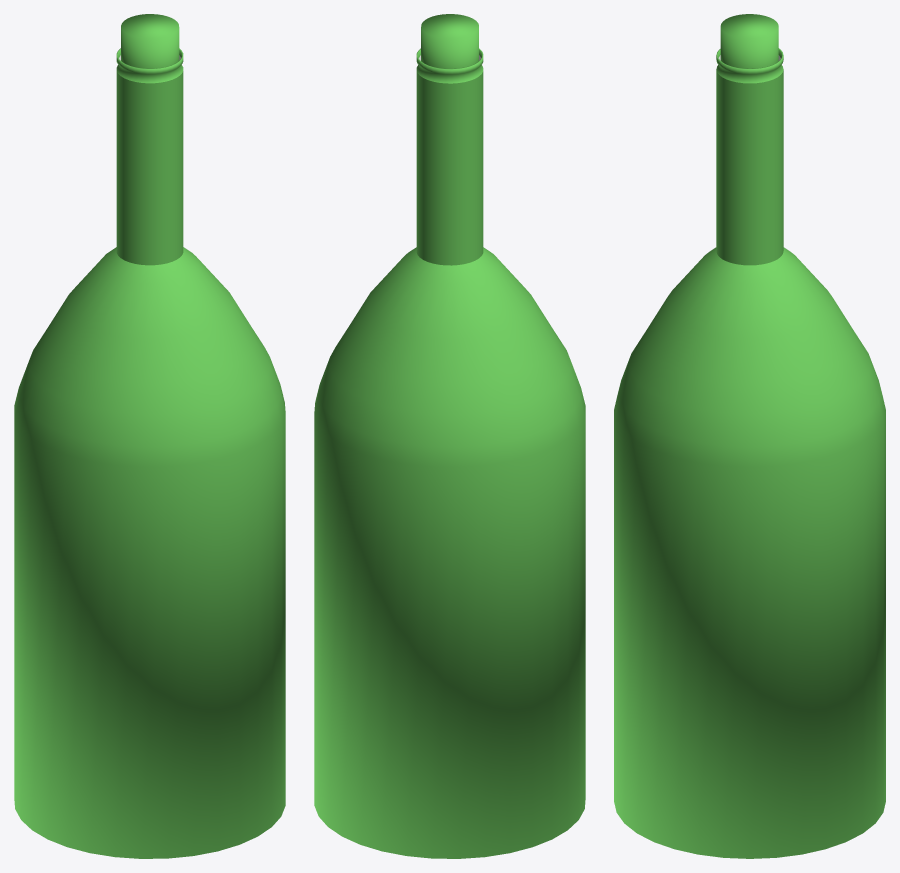
Rendered from Liquor.fbx.
3 renders of one model, left to right at view 1: azimuth 30°, elevation 25°; view 2: azimuth 150°, elevation 25°; view 3: azimuth 270°, elevation 25°, orthographic.
Parts seen in each view (by area): view 1: Bottle, Cork; view 2: Bottle, Cork; view 3: Bottle, Cork.
Boxes of the visible parts, x1,y1,x2,y2 form: Bottle: (14,48,285,858); Cork: (121,14,179,68); Bottle: (314,48,585,858); Cork: (421,14,478,68); Bottle: (614,48,885,858); Cork: (720,14,778,68).
Size of the model in its own units: 0.5035 by 1.58 by 0.5035.
